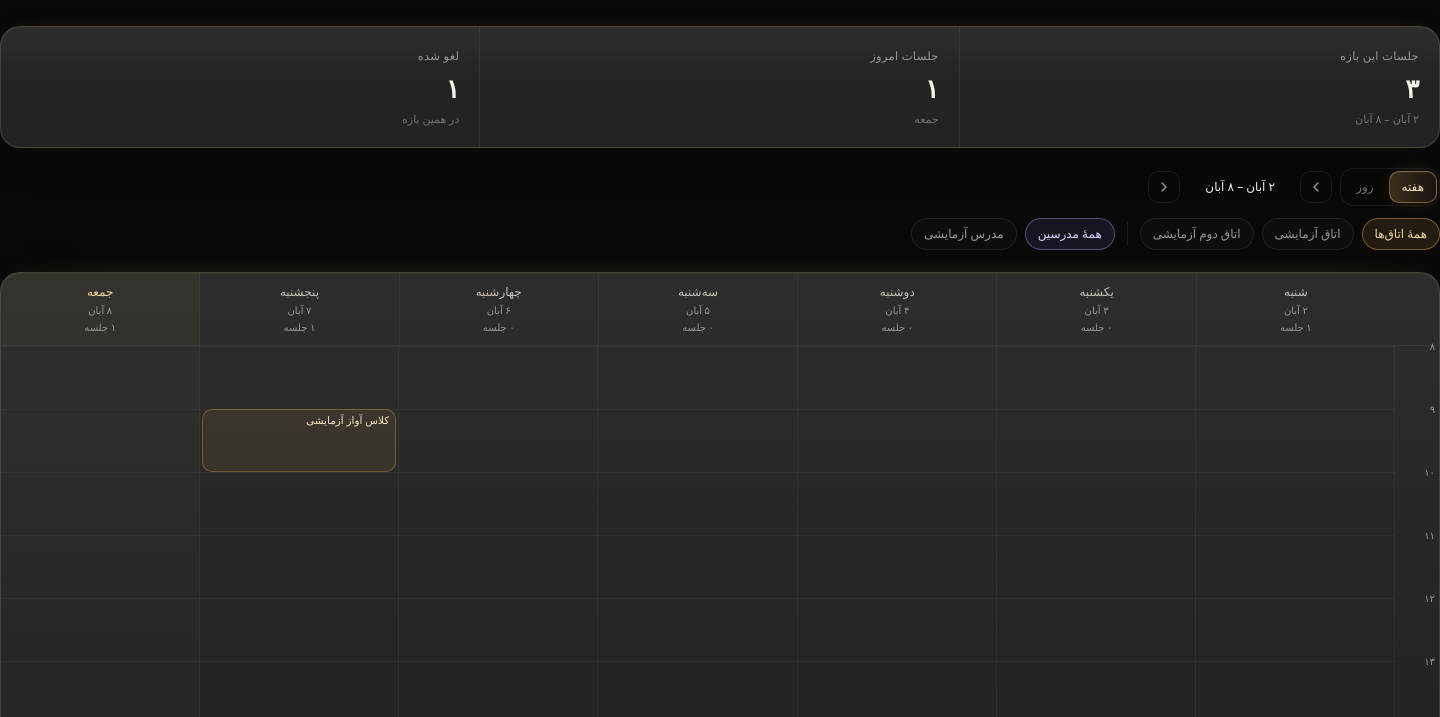
Scenario: SchedulingView reads › moves the window with its own navigation and labels the real dates
What coordinates should you click on to do the following:
click the button named "هفتهٔ بعد"
I would click on:
 (1316, 187)
Its box is [1300,171,1332,203].
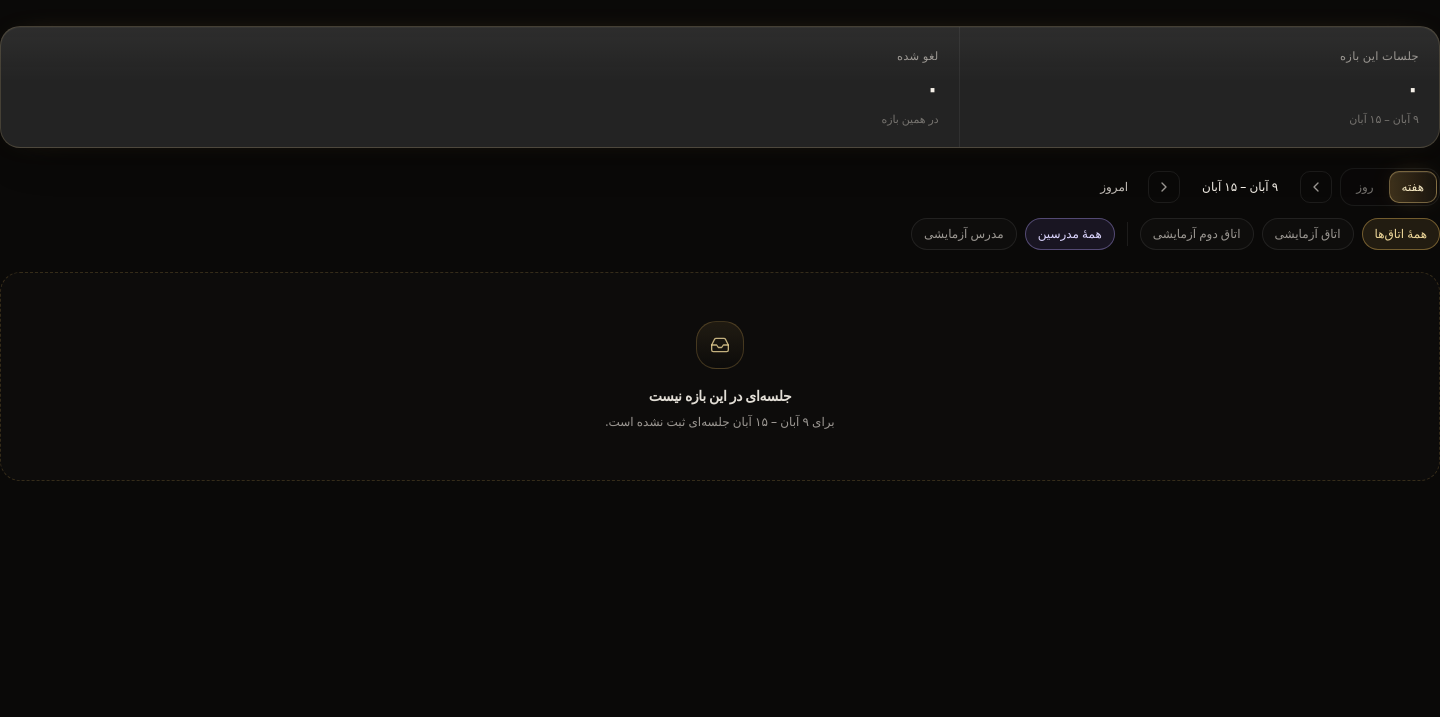
Now the heading "جلسه‌ای در این بازه نیست" is shown, box [649,385,791,406]
What coordinates should you click on to do the following:
click the button named "هفتهٔ قبل"
I would click on:
 (1164, 187)
Its box is [1148,171,1180,203].
(page scrolled)
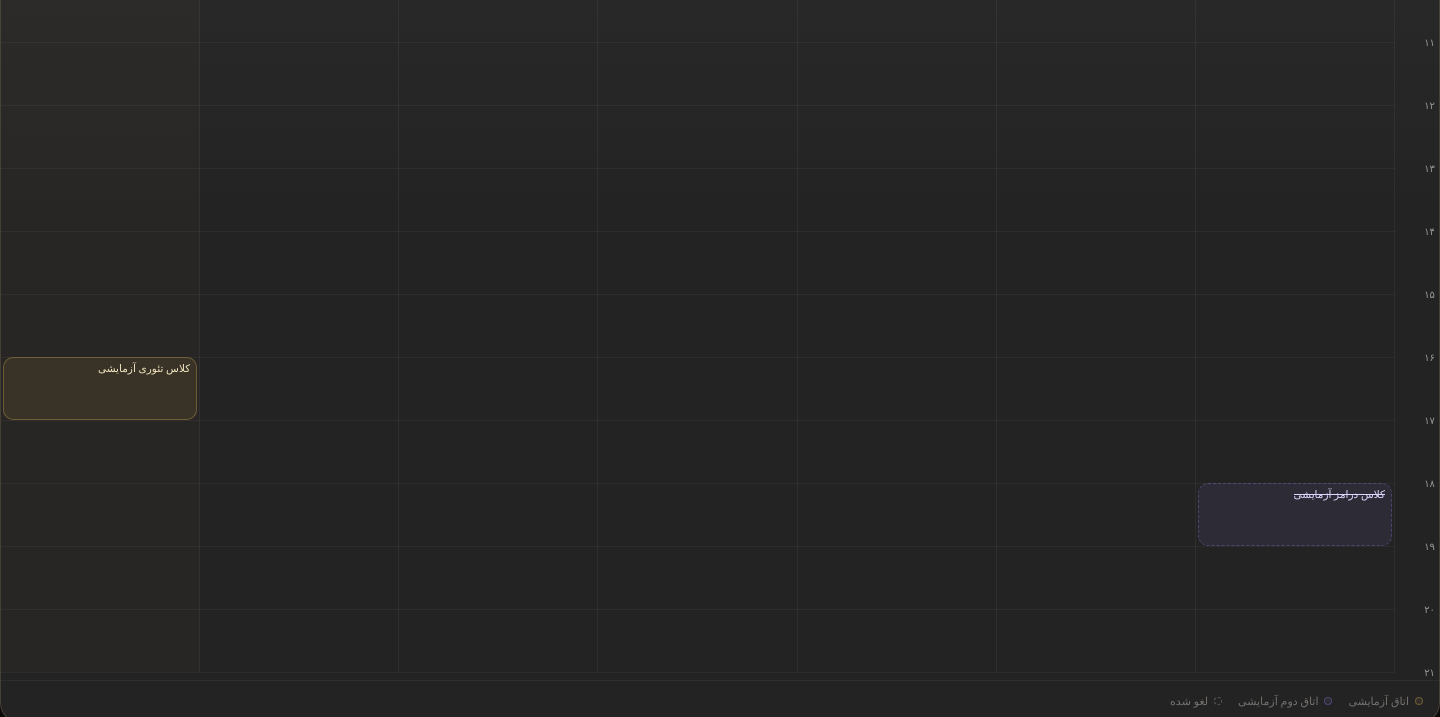
Now the text "کلاس تئوری آزمایشی" is shown, box [98,362,190,375]
